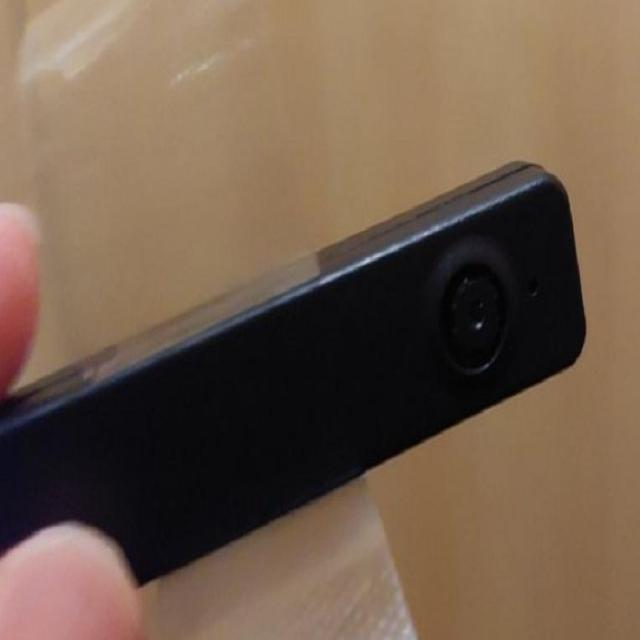hidden camera: (443, 271, 499, 367)
